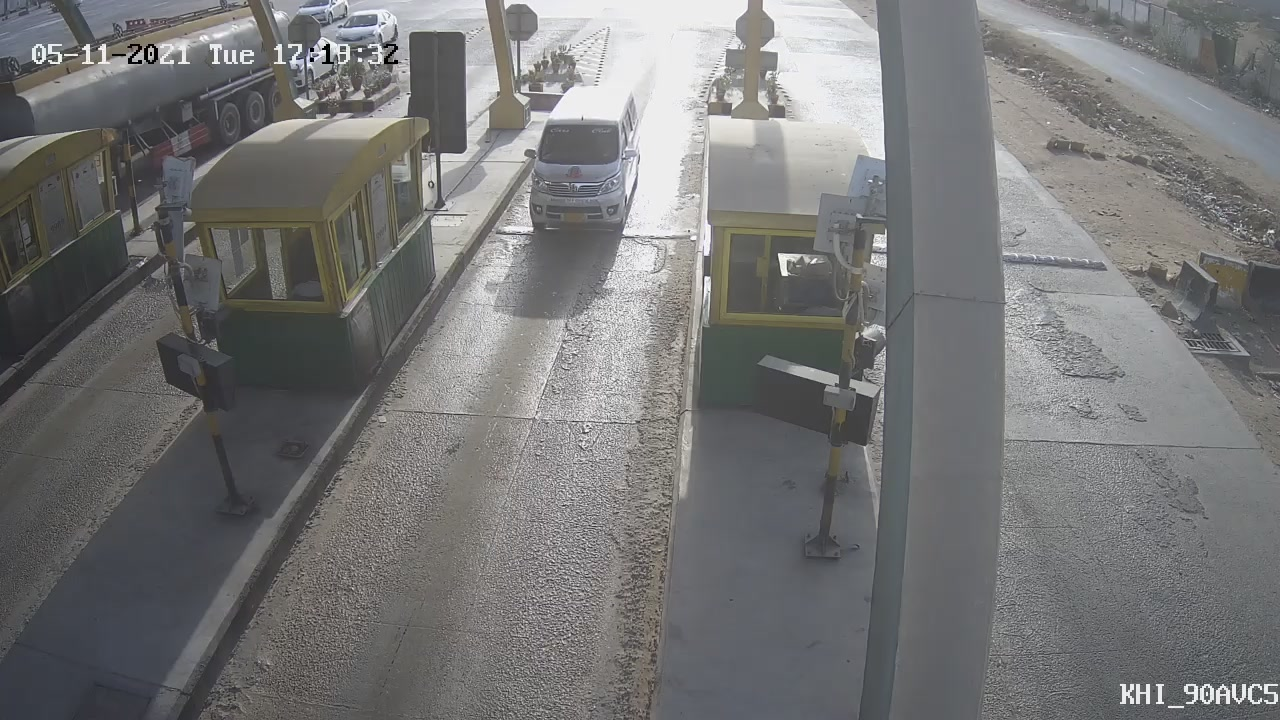F1: (500, 74, 661, 261)
